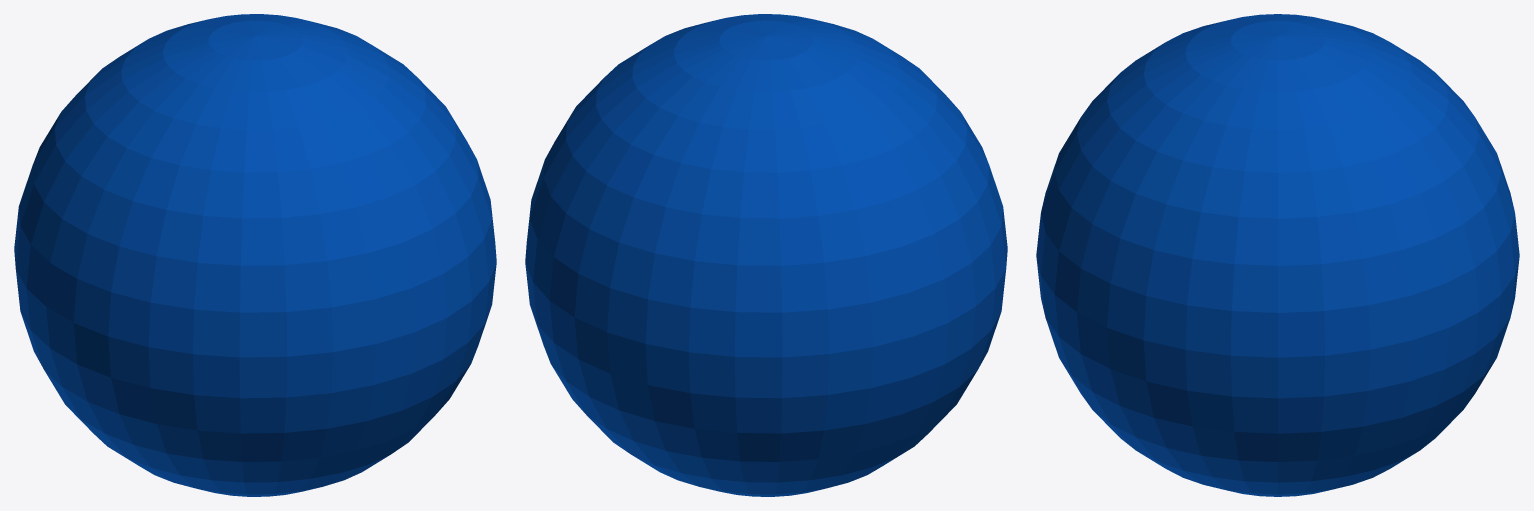
File: stage_2.fbx
The picture shows the model from 3 angles, left to right: view 1: azimuth 30°, elevation 25°; view 2: azimuth 150°, elevation 25°; view 3: azimuth 270°, elevation 25°; orthographic projection.
Parts seen in each view (by area): view 1: 球.001; view 2: 球.001; view 3: 球.001.
Part boxes in pixels (x1,y1,x2,y2): 球.001: [14, 14, 496, 496]; 球.001: [525, 14, 1007, 496]; 球.001: [1036, 14, 1519, 496].
Size of the model in its own units: 9752 by 9752 by 9752.
